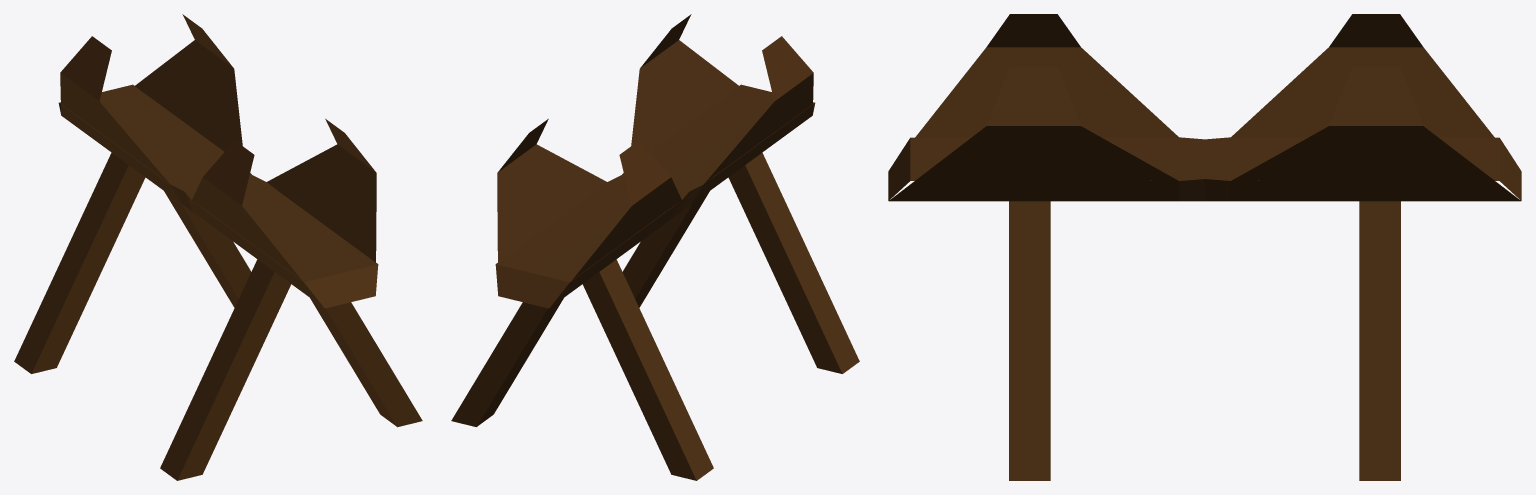
File: logHolder.obj
3 views of the same model, side by side, from view 1: azimuth 30°, elevation 25°; view 2: azimuth 150°, elevation 25°; view 3: azimuth 270°, elevation 25° (orthographic). The views are drawn at different scales.
Parts seen in each view (by area): view 1: Cylinder.010_Cylinder.006; view 2: Cylinder.010_Cylinder.006; view 3: Cylinder.010_Cylinder.006.
Boxes of the visible parts, x1,y1,x2,y2 form: Cylinder.010_Cylinder.006: (14,14,422,480); Cylinder.010_Cylinder.006: (451,14,859,480); Cylinder.010_Cylinder.006: (888,14,1521,480).
Size of the model in its own units: 0.8 by 0.955 by 1.49.
